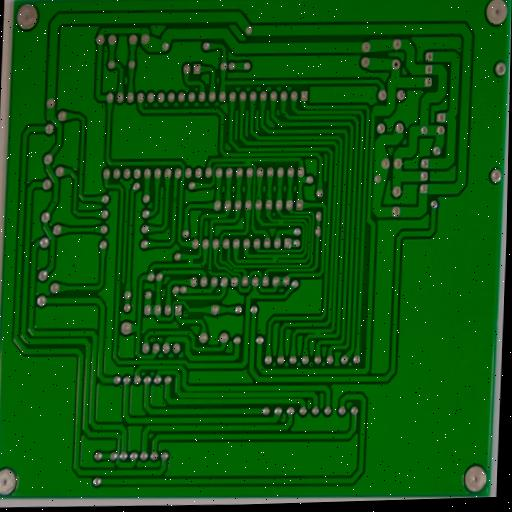short_circuit: (184, 254, 197, 270), (312, 327, 324, 341), (274, 216, 286, 229), (268, 254, 281, 265), (243, 157, 254, 170)
